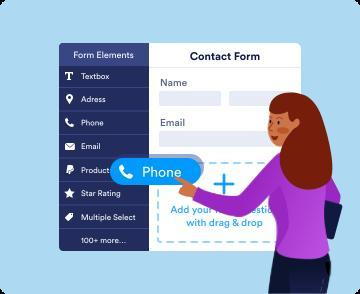button: (112, 159, 202, 185)
icon: (64, 140, 77, 156), (64, 188, 77, 202), (64, 70, 76, 84), (66, 211, 77, 226), (65, 117, 76, 131), (66, 93, 76, 106), (66, 163, 75, 177)
input: (160, 132, 269, 148), (160, 92, 222, 107), (229, 92, 270, 107)
label: (161, 77, 192, 88), (158, 117, 191, 127)
